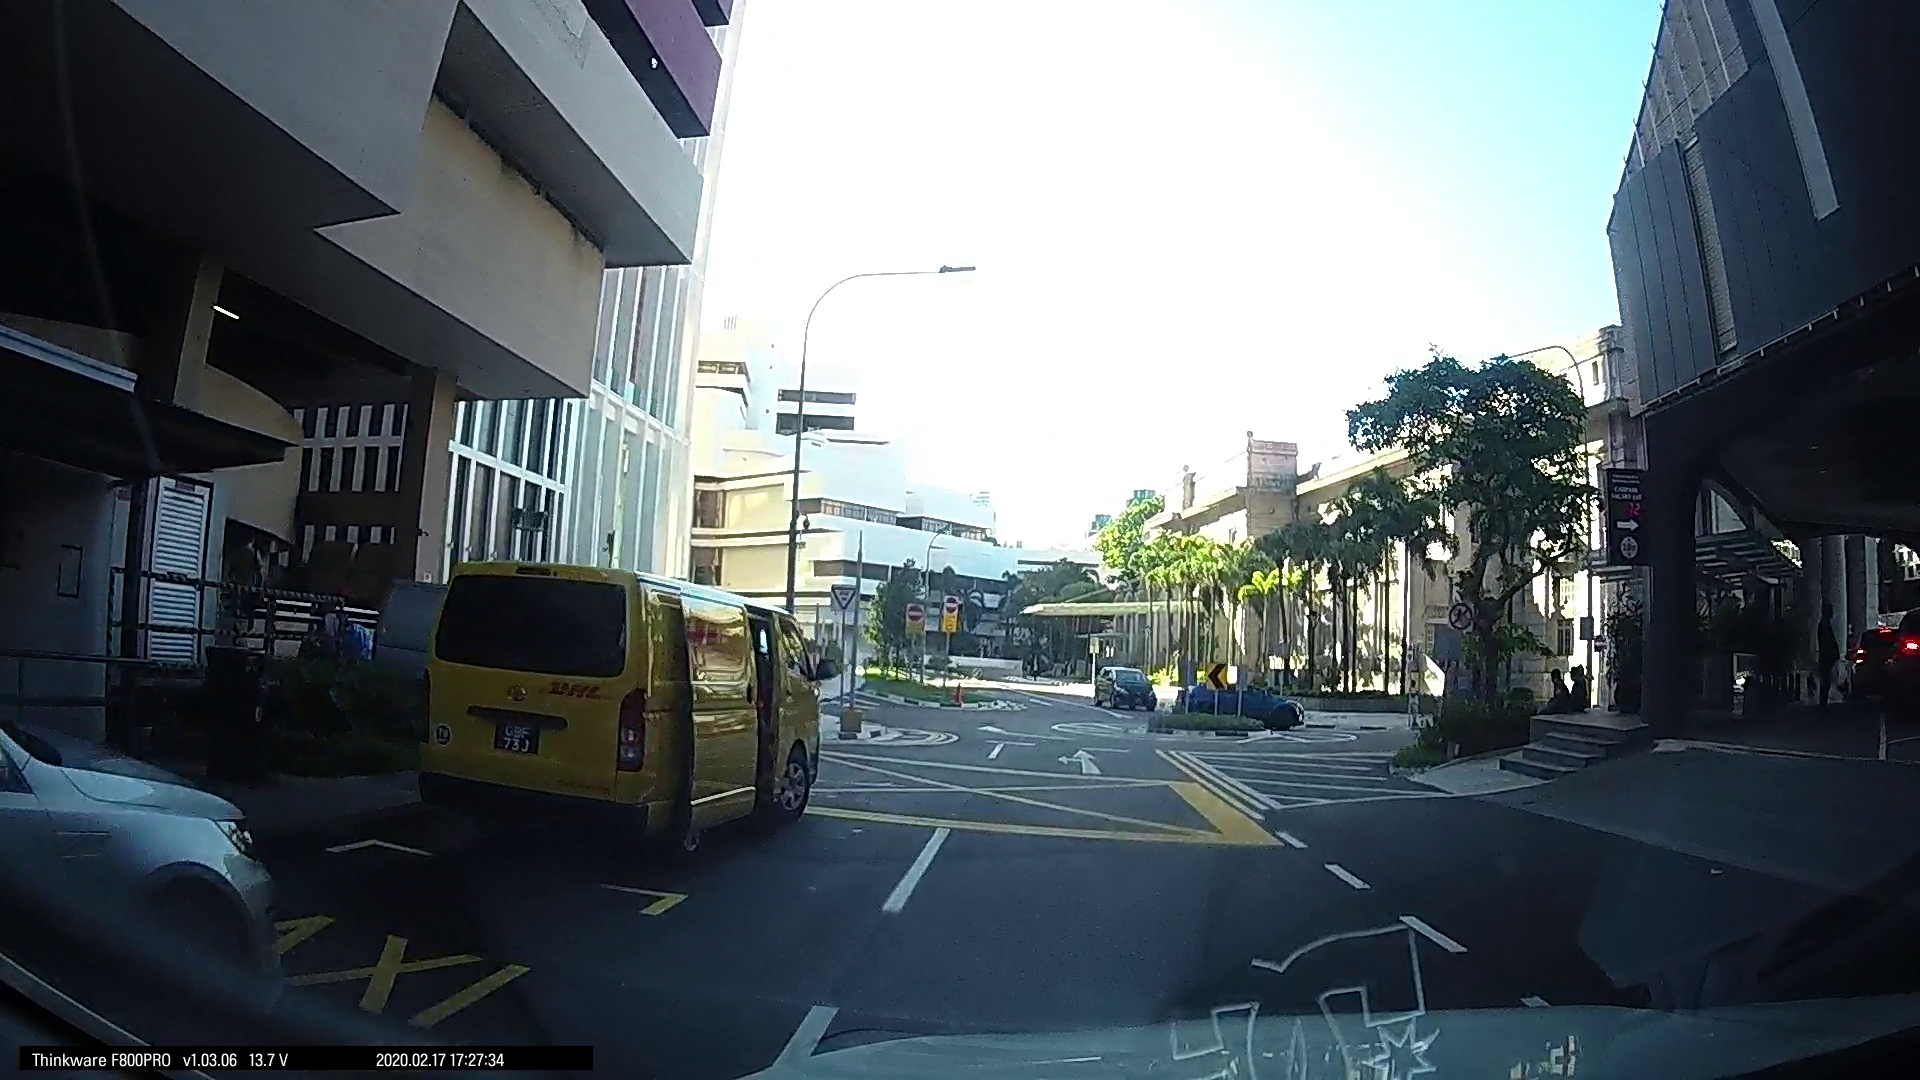Light Vehicle: (396, 562, 818, 852), (1, 709, 278, 1031), (1095, 662, 1160, 709)
